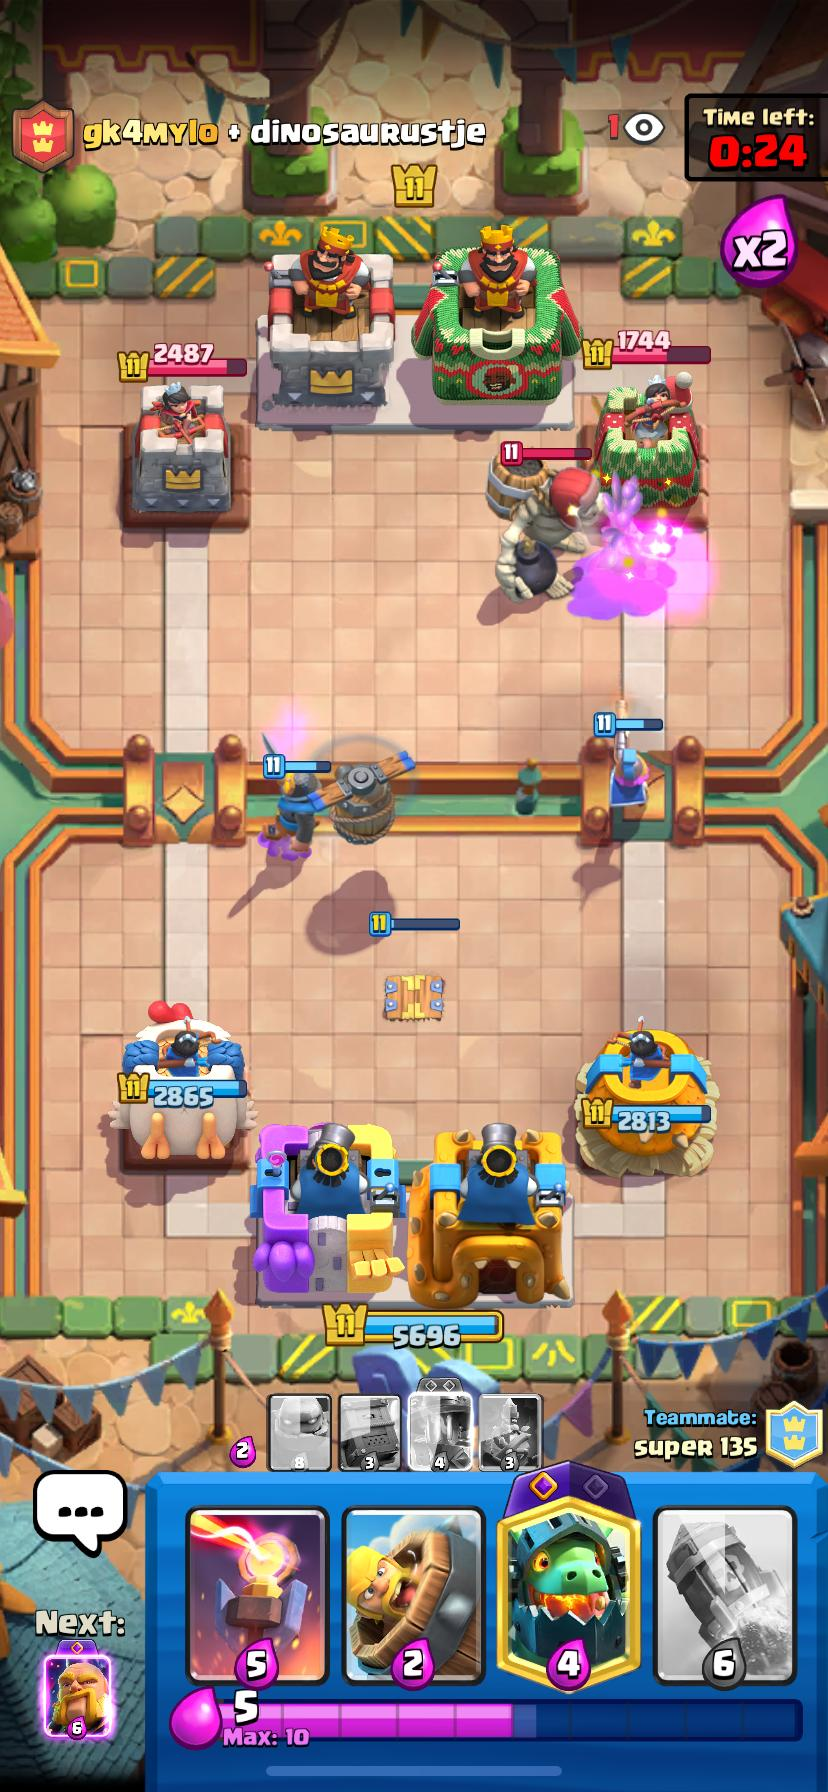EGiantSkeleton: (486, 456, 599, 602)
EKingTower: (414, 225, 579, 402), (258, 224, 395, 407)
EnemyPrincessTower: (124, 379, 234, 525), (590, 371, 699, 511)
OFlyingMachine: (327, 761, 395, 843)
OKnight: (276, 771, 324, 846)
OMuskNew: (610, 731, 664, 817)
OTesla: (383, 971, 444, 1019)
OwnKingTower: (407, 1123, 571, 1304), (253, 1123, 403, 1301)
OwnPrincessTower: (578, 1018, 717, 1173), (116, 1017, 254, 1159)
